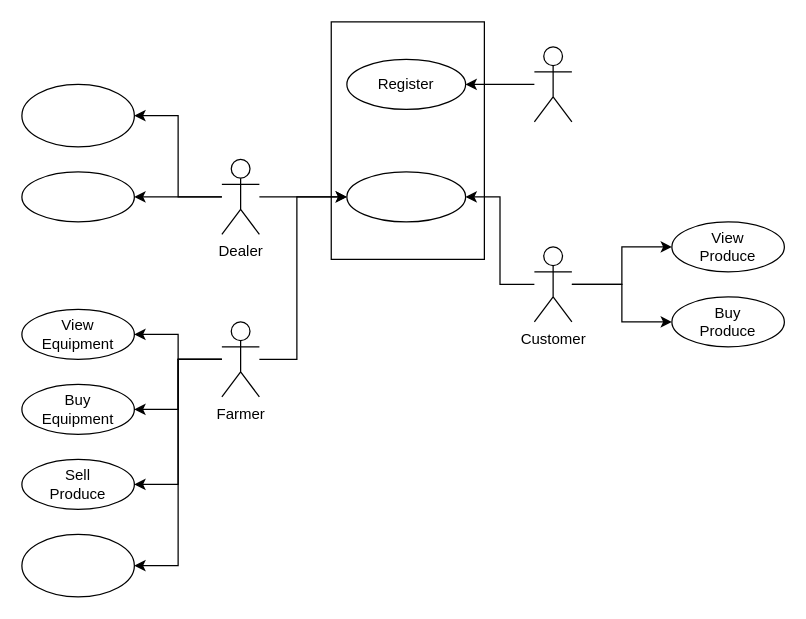
This 806x619 diagram has some shape labels left out. The shapes that lost their labels are listed below. From the top down, each one's centre as x and y in pixels, then its label:
pixel 552 84: Unregistered User
pixel 77 115: Create Equipment listing
pixel 77 196: Sell Equipment
pixel 406 196: Login
pixel 77 565: Create Produce listing
